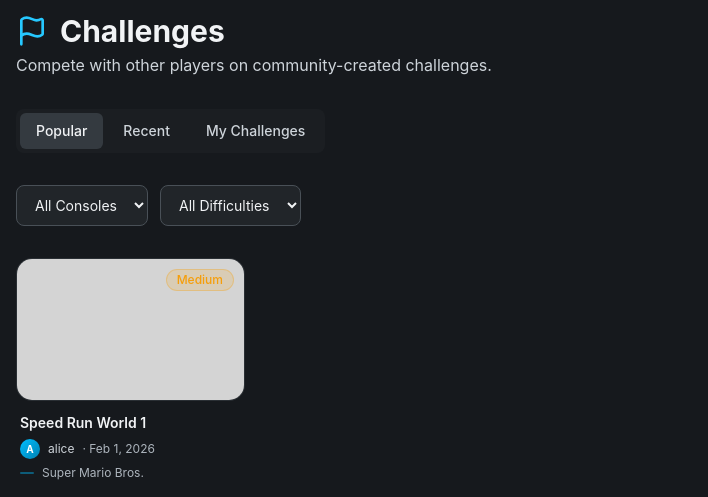
Test case: ChallengesPage › switches to My Challenges tab
Click the tab "My Challenges" at (256, 131), box [190, 113, 321, 149]
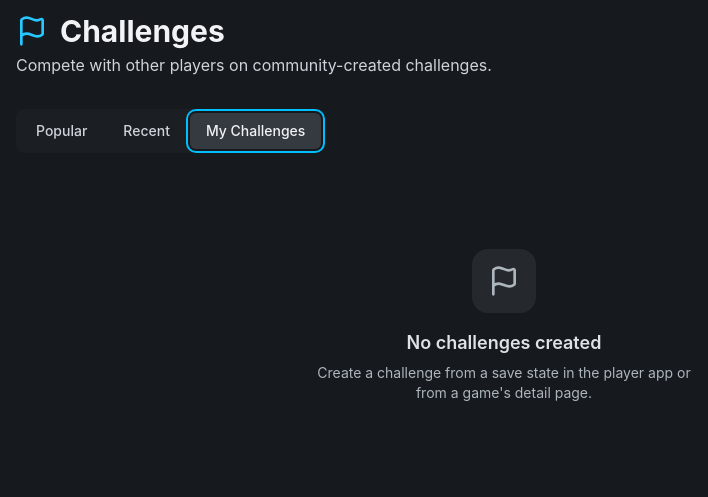
Result: the heading "No challenges created" is shown at [407, 329, 602, 357]
